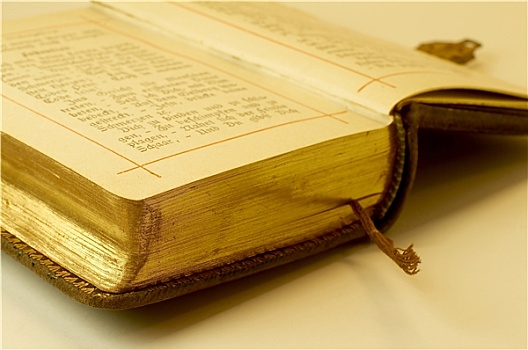book: (1, 1, 527, 305)
